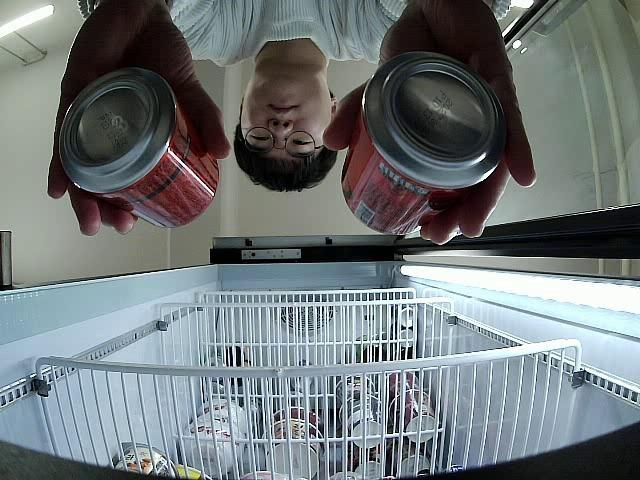11_cocaColaZero: (341, 51, 502, 234), (55, 65, 221, 230)
